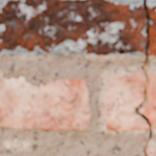brick: (0, 72, 90, 129)
broken_brick: (0, 0, 145, 56), (103, 68, 148, 131), (142, 72, 155, 129), (148, 5, 155, 57), (148, 144, 155, 155)
crack: (2, 0, 154, 155), (62, 80, 74, 104)
